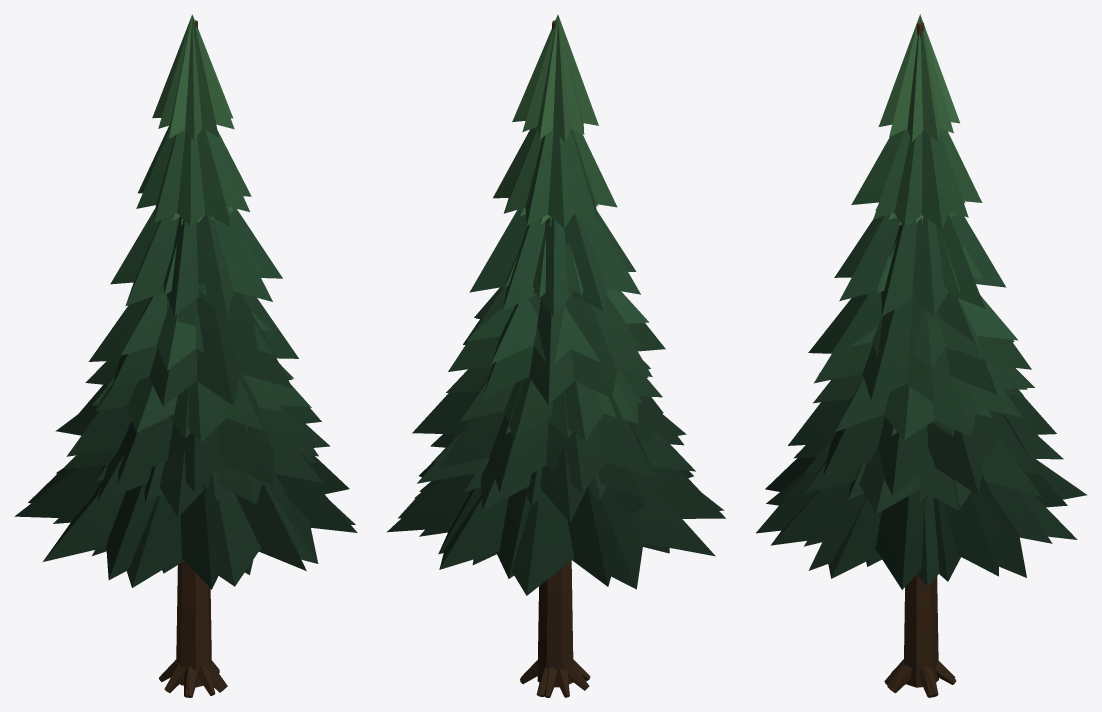
Rendered from pine.fbx.
The picture shows the model from 3 angles, left to right: view 1: azimuth 30°, elevation 25°; view 2: azimuth 150°, elevation 25°; view 3: azimuth 270°, elevation 25°; orthographic projection.
Visible parts, largest first — view 1: pine_2, pine_3, pine_0; view 2: pine_2, pine_3, pine_0, pine_1; view 3: pine_2, pine_3, pine_0, pine_1.
Part boxes in pixels (x1,y1,x2,y2): pine_2: (28,14,357,697); pine_3: (14,207,355,697); pine_0: (53,208,316,692); pine_2: (398,14,725,697); pine_3: (387,204,724,696); pine_0: (414,217,653,697); pine_1: (431,213,650,696); pine_2: (756,14,1067,696); pine_3: (766,201,1087,697); pine_0: (804,212,1036,697); pine_1: (795,212,1027,697).
Size of the model in its own units: 5.64 by 11.95 by 5.37.
